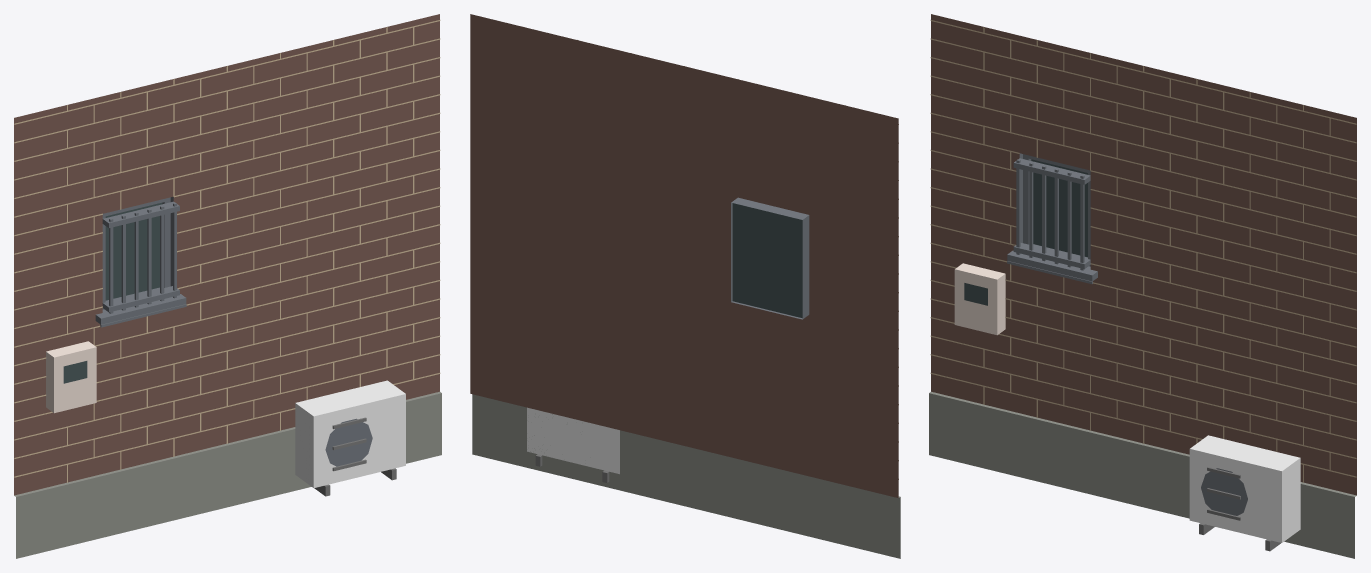
File: base-w4_close.fbx
The picture shows the model from 3 angles, left to right: view 1: azimuth 30°, elevation 25°; view 2: azimuth 150°, elevation 25°; view 3: azimuth 330°, elevation 25°; orthographic projection.
Visible parts, largest first — view 1: a2000s2/0/base-w4_close; view 2: a2000s2/0/base-w4_close; view 3: a2000s2/0/base-w4_close.
Part boxes in pixels (bbox=[...]): a2000s2/0/base-w4_close: bbox=[14, 14, 441, 558]; a2000s2/0/base-w4_close: bbox=[470, 14, 900, 558]; a2000s2/0/base-w4_close: bbox=[929, 14, 1356, 558].
Bounding box in the file's own units: 3.6 × 3.55 × 0.42.
